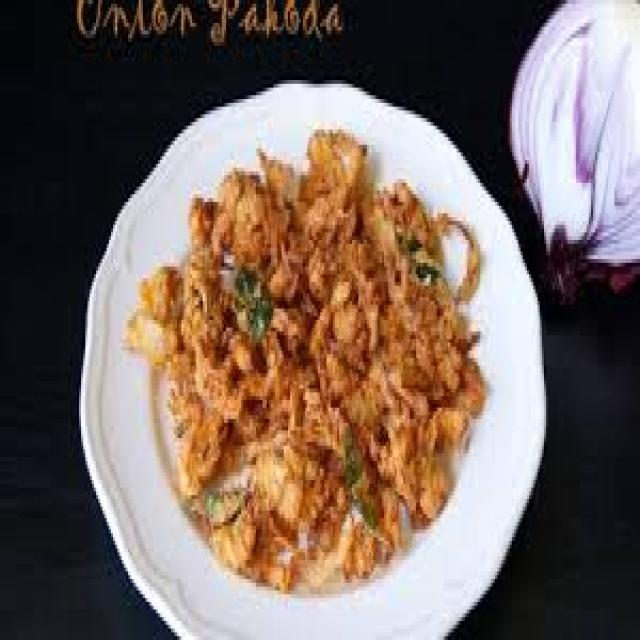BAJI: (126, 130, 484, 587)
